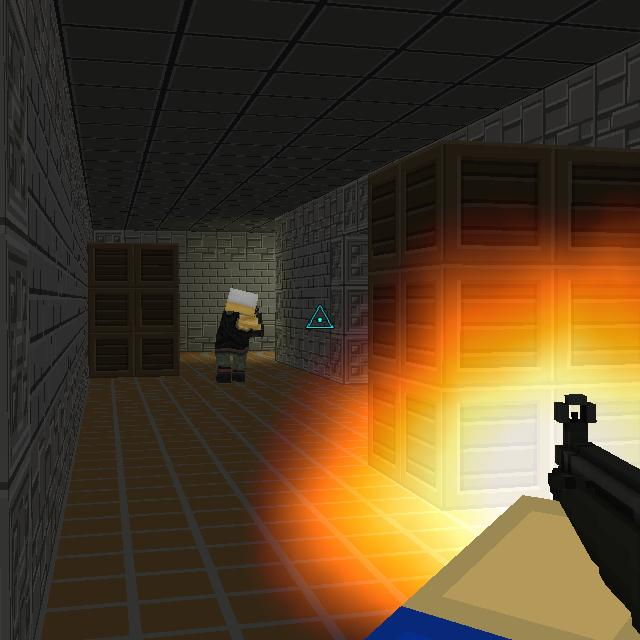enemy: (216, 285, 262, 382)
